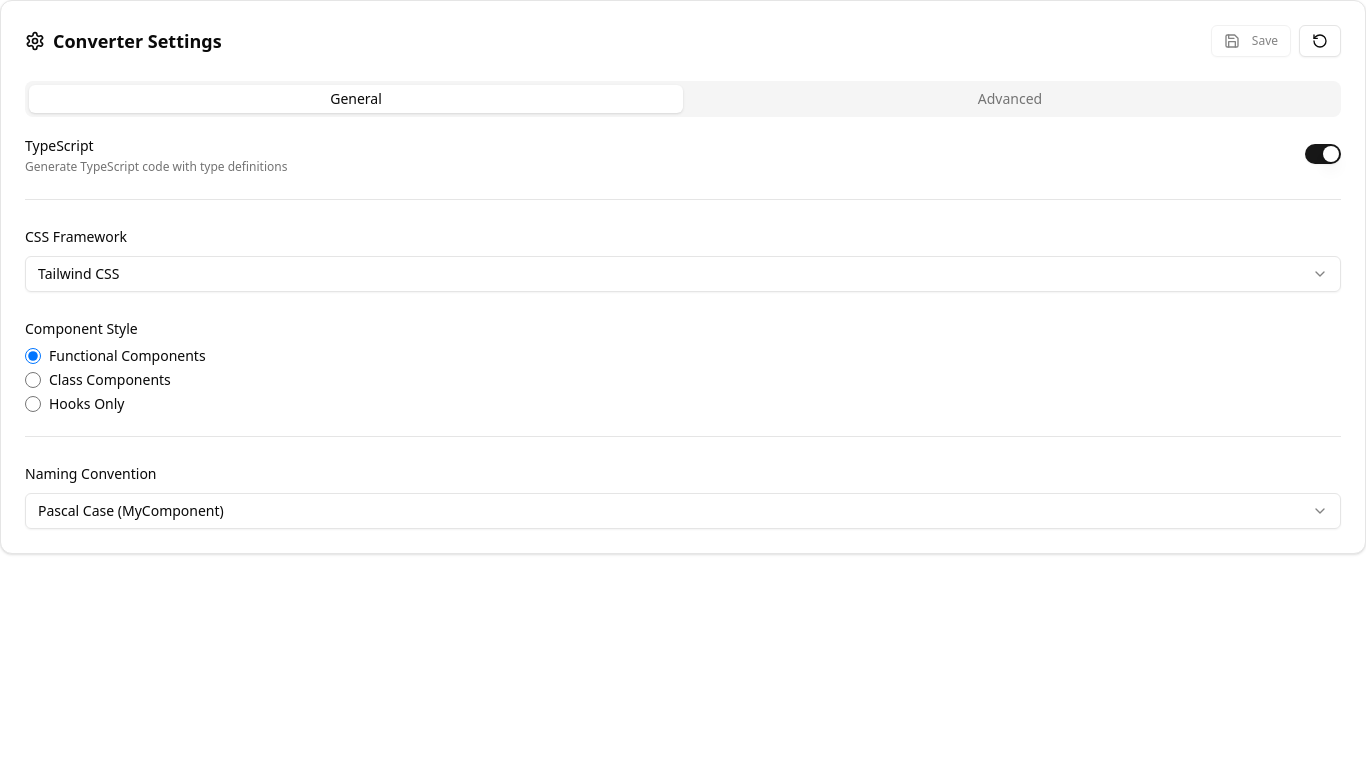
Test: SettingsPanel Component › Rendering › should enable Save button when there are unsaved changes
Expected: the button "Save" is disabled, [1211, 25, 1291, 57]
# Make a change to trigger unsaved changes
Click the switch named "typescript" at (1323, 154), box [1305, 144, 1341, 164]
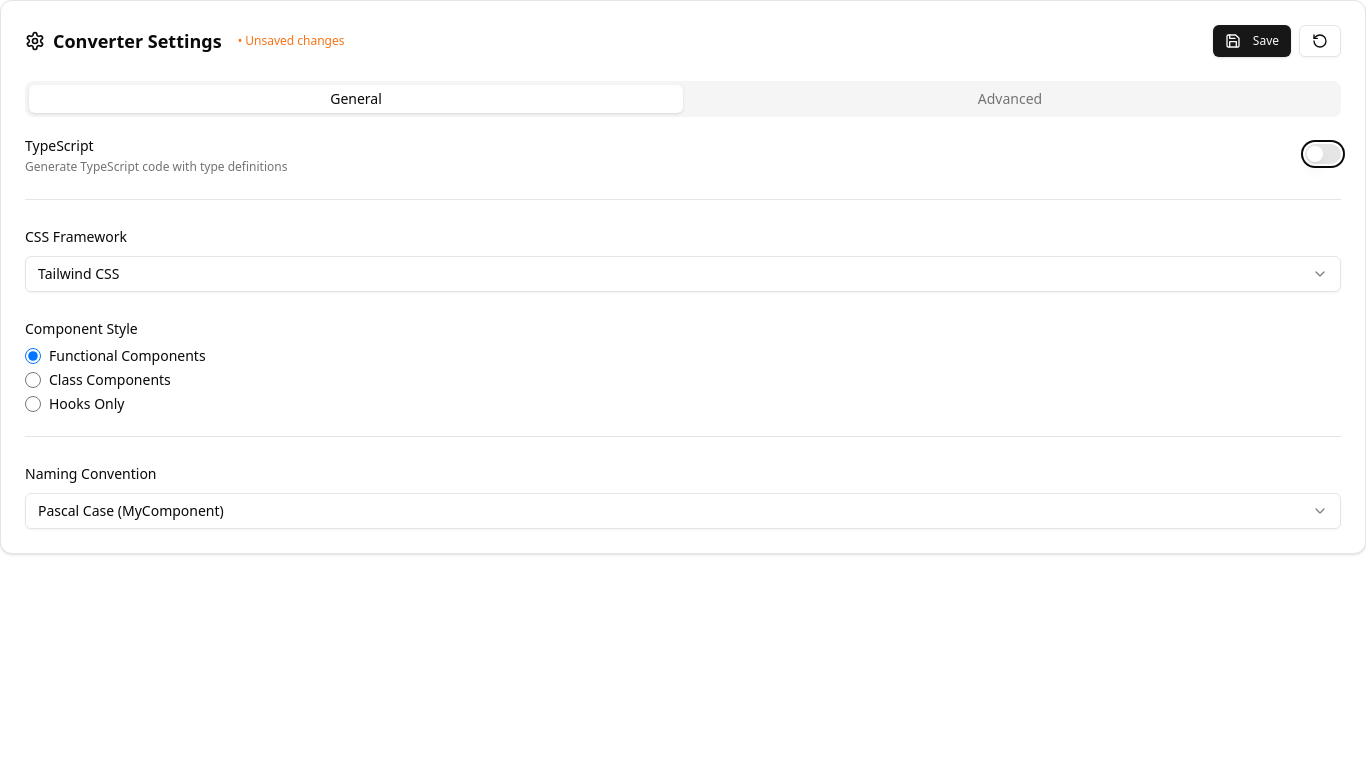
Expected: the button "Save" is enabled, [1213, 25, 1291, 57]
